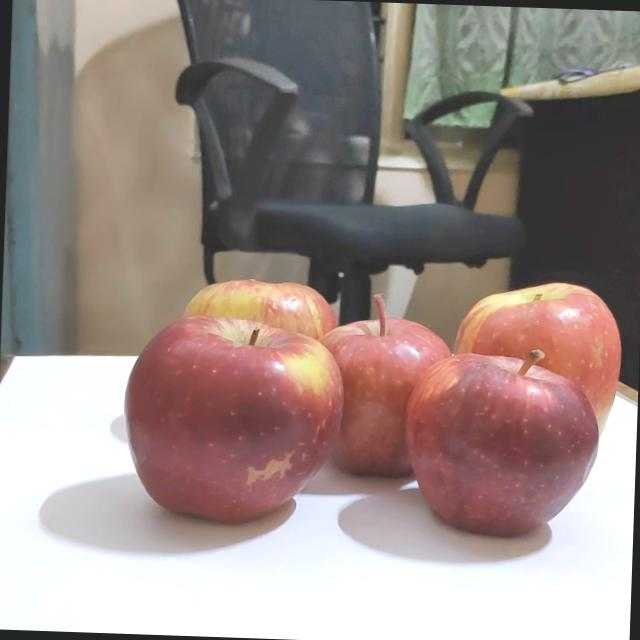apple: (113, 303, 349, 522), (402, 344, 603, 534), (296, 282, 454, 474), (446, 270, 622, 431), (164, 264, 340, 394)
